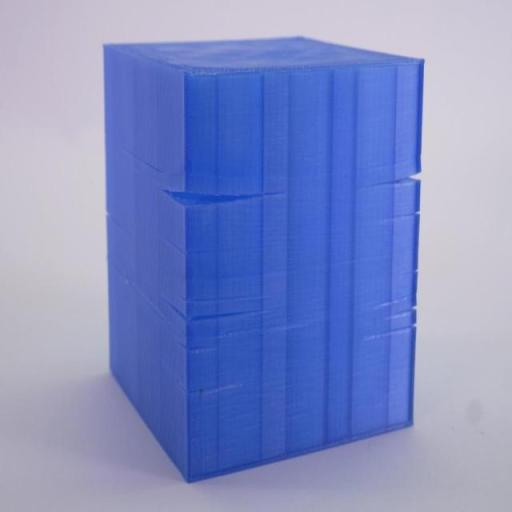cracks: (152, 174, 296, 224), (353, 174, 422, 196)
